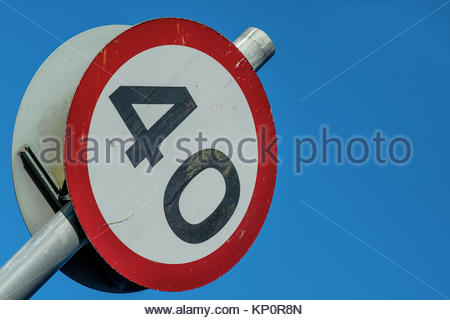Speed_limit_40km: (66, 18, 277, 292)
